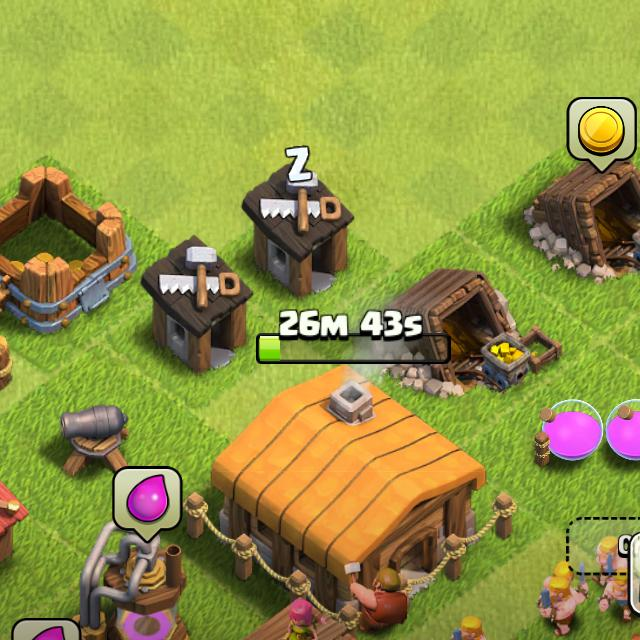Elixir: (114, 470, 181, 538), (13, 620, 82, 640)
coin: (568, 98, 637, 171)
